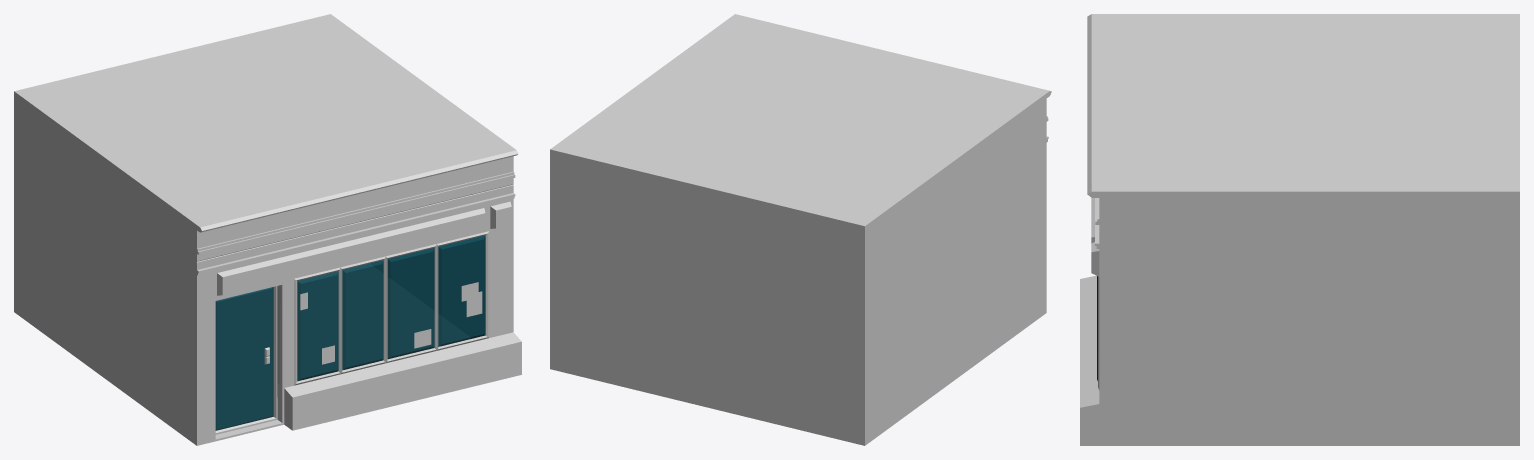
File: building_shop_01.fbx
3 renders of one model, left to right at view 1: azimuth 30°, elevation 25°; view 2: azimuth 150°, elevation 25°; view 3: azimuth 270°, elevation 25°, orthographic. The views are drawn at different scales.
Parts seen in each view (by area): view 1: building_shop_01, building_shop_01_glass; view 2: building_shop_01; view 3: building_shop_01.
Part boxes in pixels (left/top/right/bottom): building_shop_01: left=14, top=14, right=521, bottom=445; building_shop_01_glass: left=215, top=235, right=485, bottom=430; building_shop_01: left=550, top=14, right=1051, bottom=445; building_shop_01: left=1080, top=14, right=1519, bottom=445.
Bounding box in the file's own units: 600 × 400 × 627.
